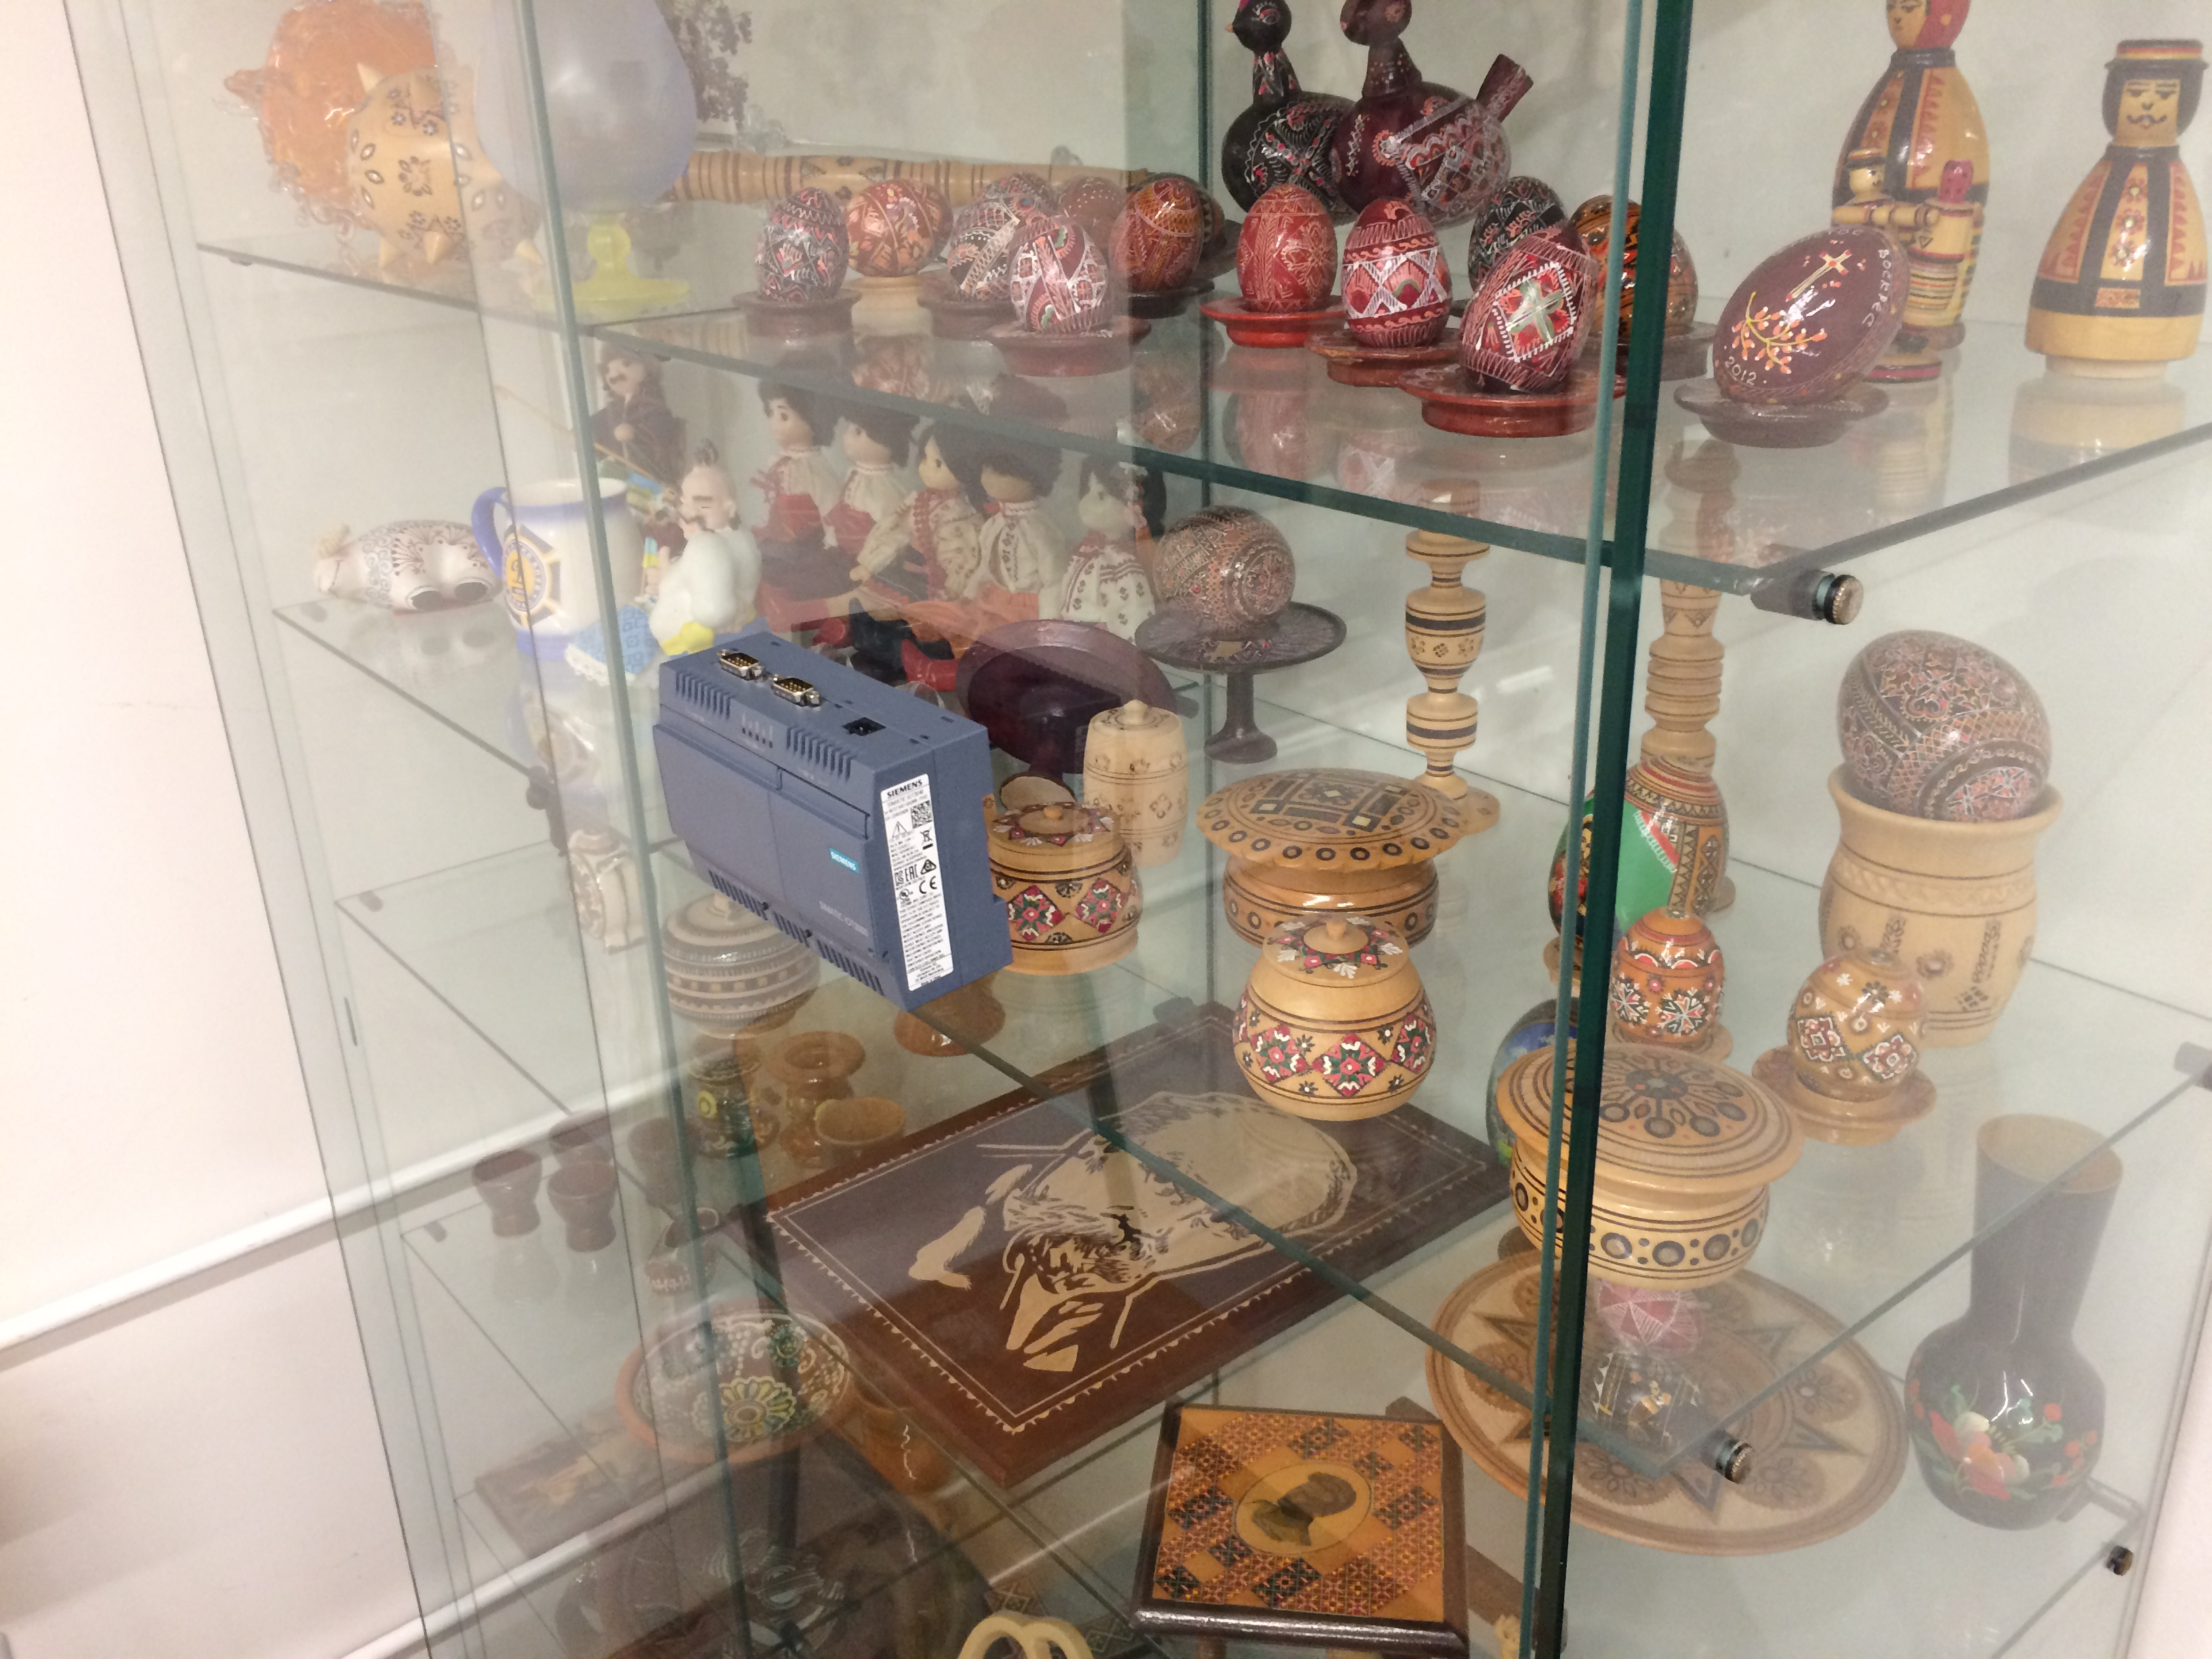iot2000: (648, 626, 1017, 1018)
